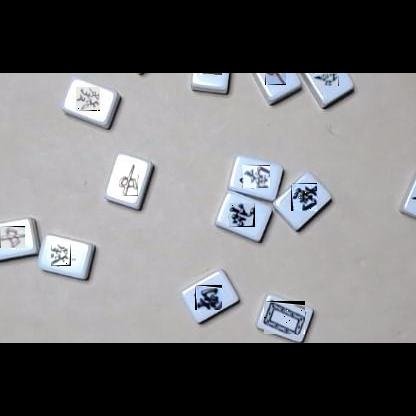2z: (291, 183, 317, 211), (195, 285, 222, 310), (242, 165, 270, 188)
3z: (200, 73, 222, 75)
4z: (229, 203, 255, 227)
5z: (263, 301, 305, 334)
6z: (76, 87, 100, 111), (52, 242, 76, 266), (315, 73, 339, 86)
7z: (118, 163, 138, 196), (0, 226, 25, 248), (265, 73, 286, 85)
